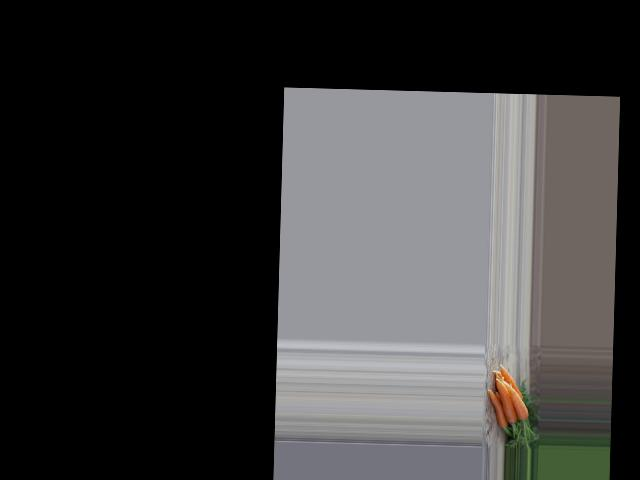carrot: (486, 384, 509, 429)
